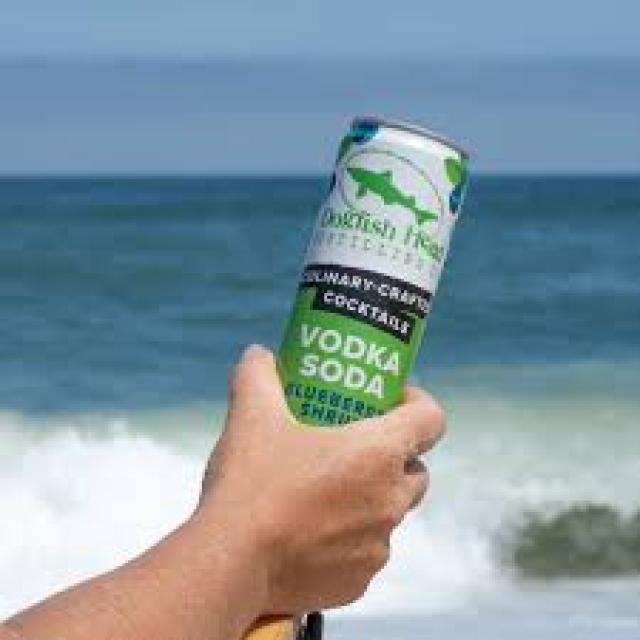Cans: (270, 105, 475, 430)
